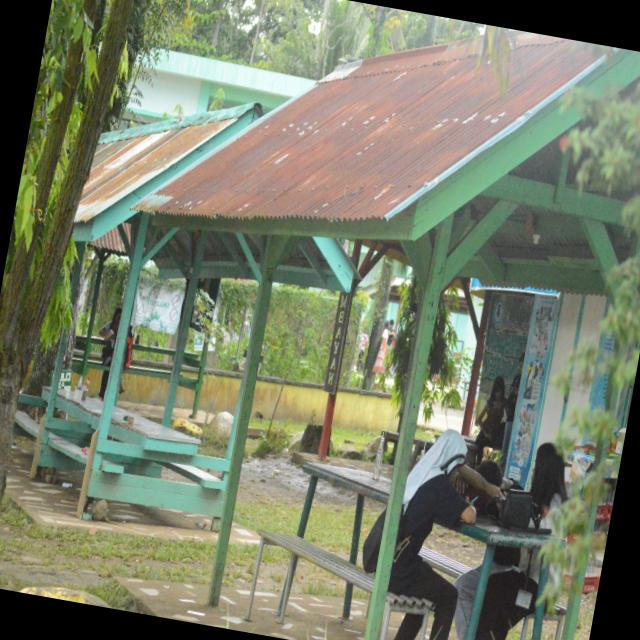person: (388, 430, 499, 639), (474, 376, 505, 465)
